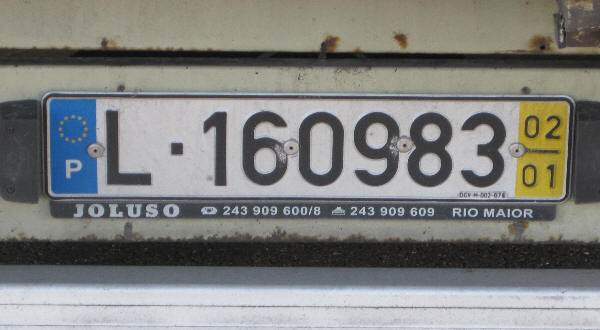license_plate: (42, 90, 573, 203)
